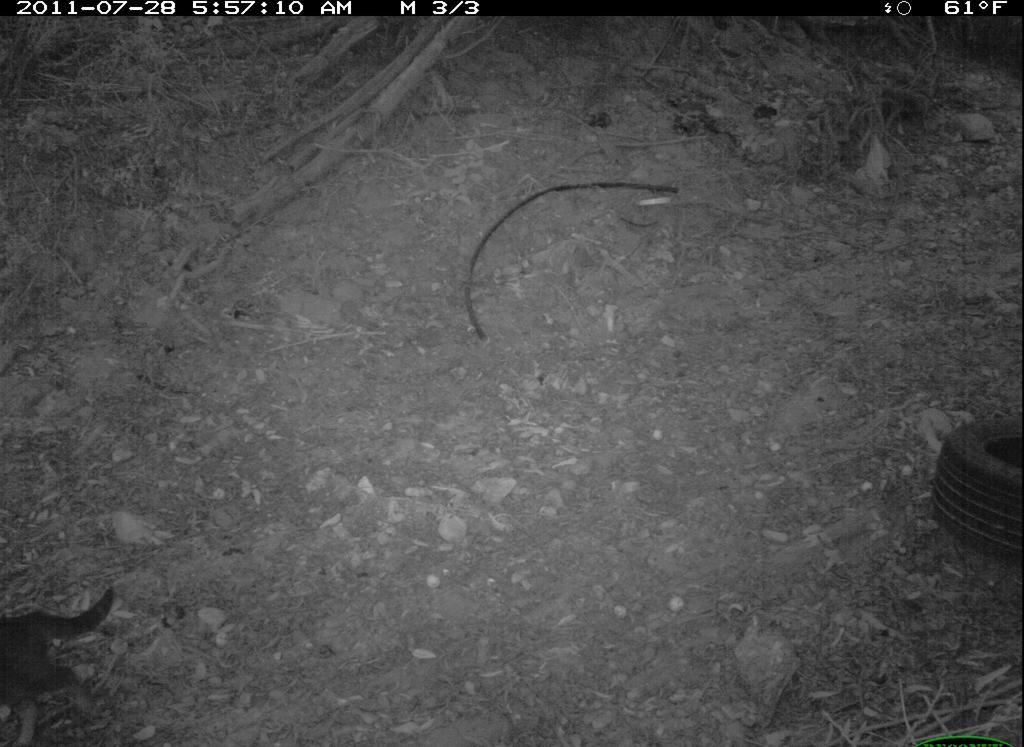cat: (7, 583, 130, 742)
